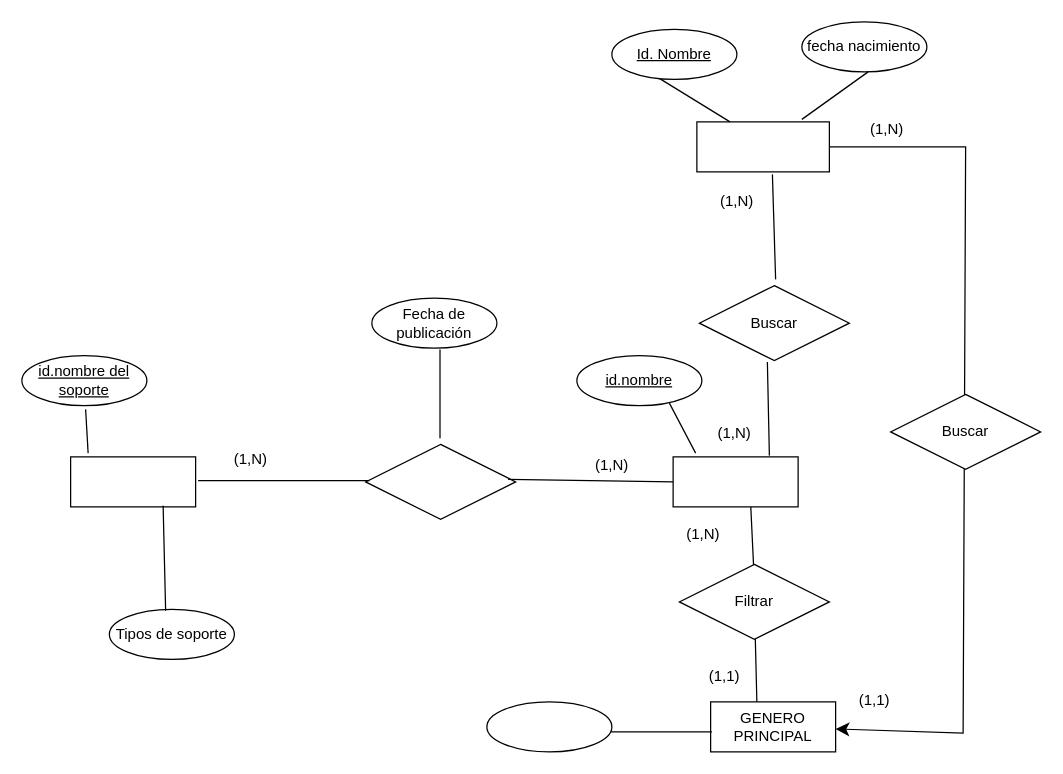
Some shapes in this 1063 by 774 pixel diagram are drawn without their labels. The shapes that lost their labels are listed below. From the top down, each one's box as (x1, y1, x2, y2) in pixels, then its label:
(696, 121, 829, 172): AUTORES
(69, 456, 196, 507): SOPORTES
(364, 443, 516, 519): Registrar
(672, 456, 798, 507): TITULOS
(486, 701, 612, 752): id.genero
